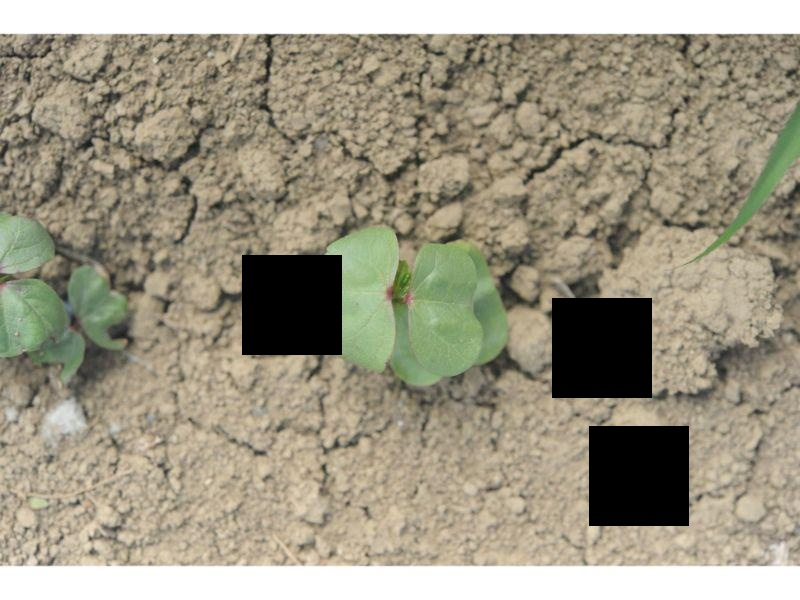cotton: (310, 223, 511, 388), (2, 213, 130, 380)
